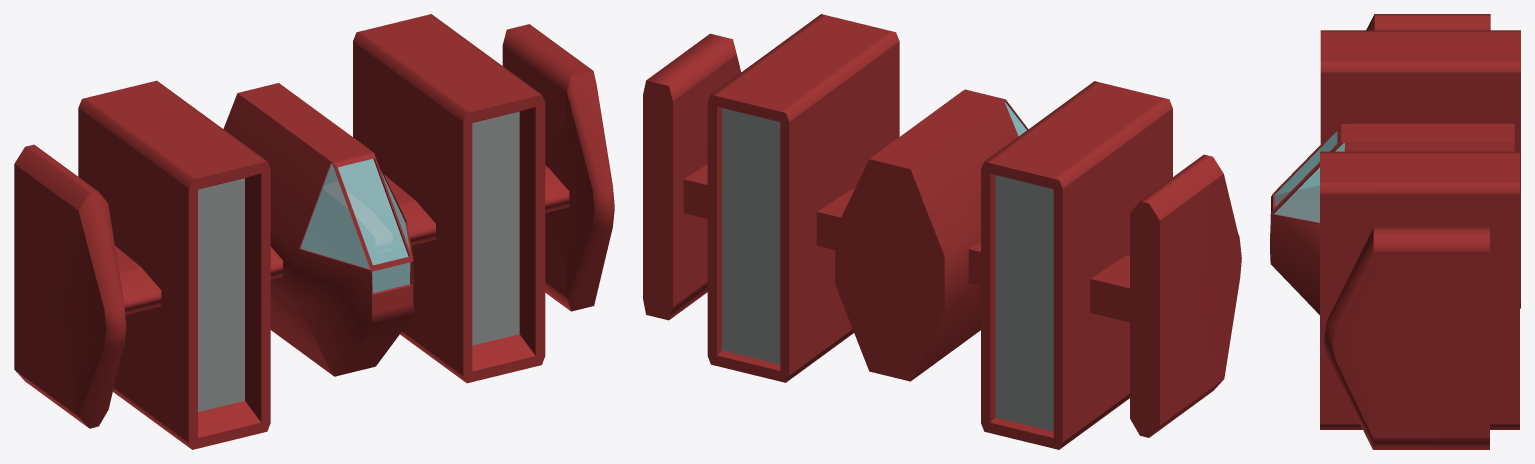
The model's file is Bomber.fbx.
3 views of the same model, side by side, from view 1: azimuth 30°, elevation 25°; view 2: azimuth 150°, elevation 25°; view 3: azimuth 270°, elevation 25° (orthographic). The views are drawn at different scales.
Parts seen in each view (by area): view 1: L_Engine, R_Engine, Cockpit, L_Wingtip, R_Wingtip, R_Wing, L_Wing; view 2: R_Engine, L_Engine, Cockpit, L_Wingtip, R_Wingtip, L_Wing, R_Wing; view 3: R_Wingtip, R_Engine, L_Engine, Cockpit, L_Wingtip.
Part boxes in pixels (x1,y1,x2,y2): L_Engine: (78,80,270,449); R_Engine: (353,14,545,383); Cockpit: (223,83,413,376); L_Wingtip: (14,144,126,428); R_Wingtip: (502,24,614,311); R_Wing: (320,165,569,253); L_Wing: (115,246,282,314); R_Engine: (707,14,899,382); L_Engine: (981,81,1172,449); Cockpit: (835,89,1028,381); L_Wingtip: (1130,154,1241,437); R_Wingtip: (643,33,741,320); L_Wing: (968,241,1129,322); R_Wing: (683,164,854,249); R_Wingtip: (1324,227,1489,449); R_Engine: (1320,151,1519,429); L_Engine: (1320,30,1520,308); Cockpit: (1270,123,1514,314); L_Wingtip: (1366,14,1490,30).
Bounding box in the file's own units: 139 × 69.31 × 64.25.
